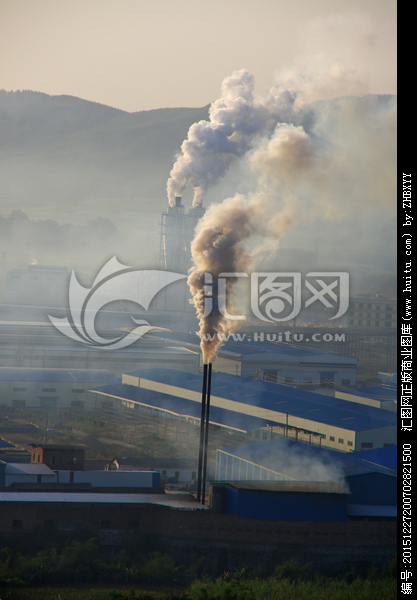dust: (164, 218, 282, 364), (152, 74, 259, 203)
